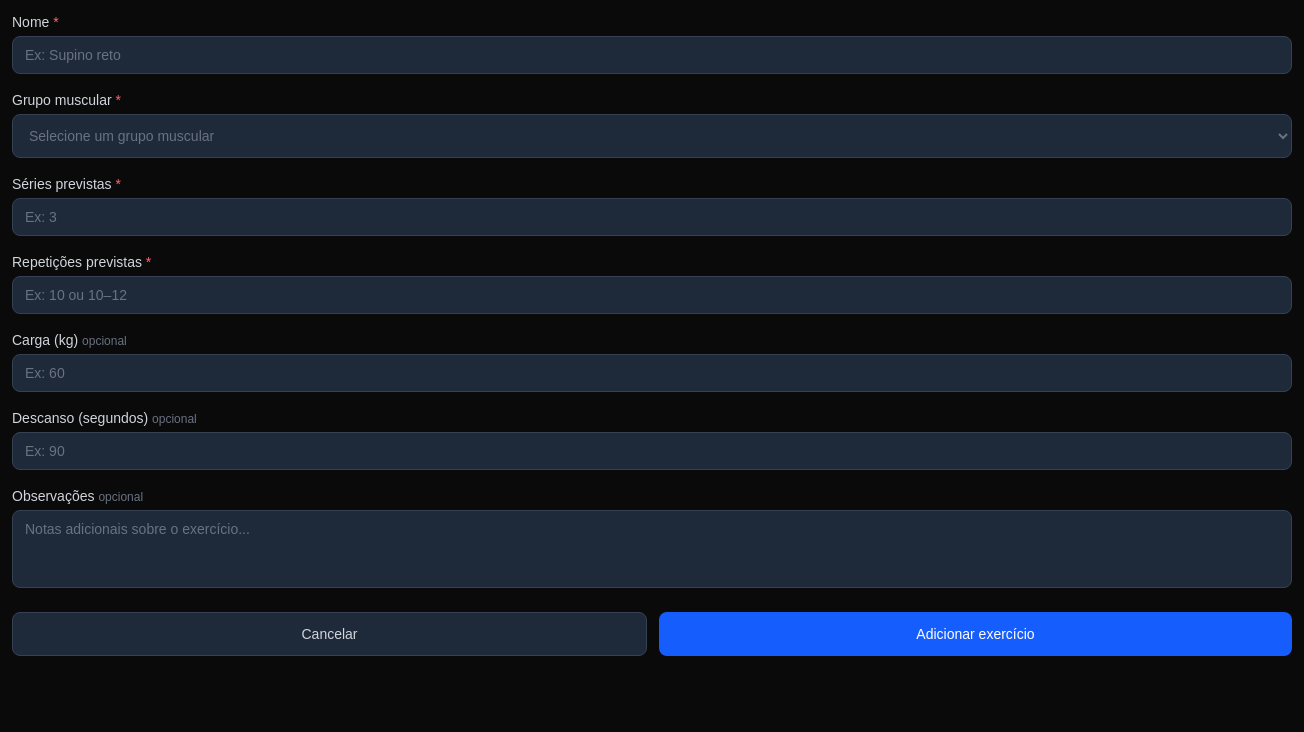
it: ExerciseForm › shows inline error for muscleGroup field when validator returns muscleGroup error
Click the button "Adicionar exercício" at (976, 634), box [659, 612, 1292, 656]
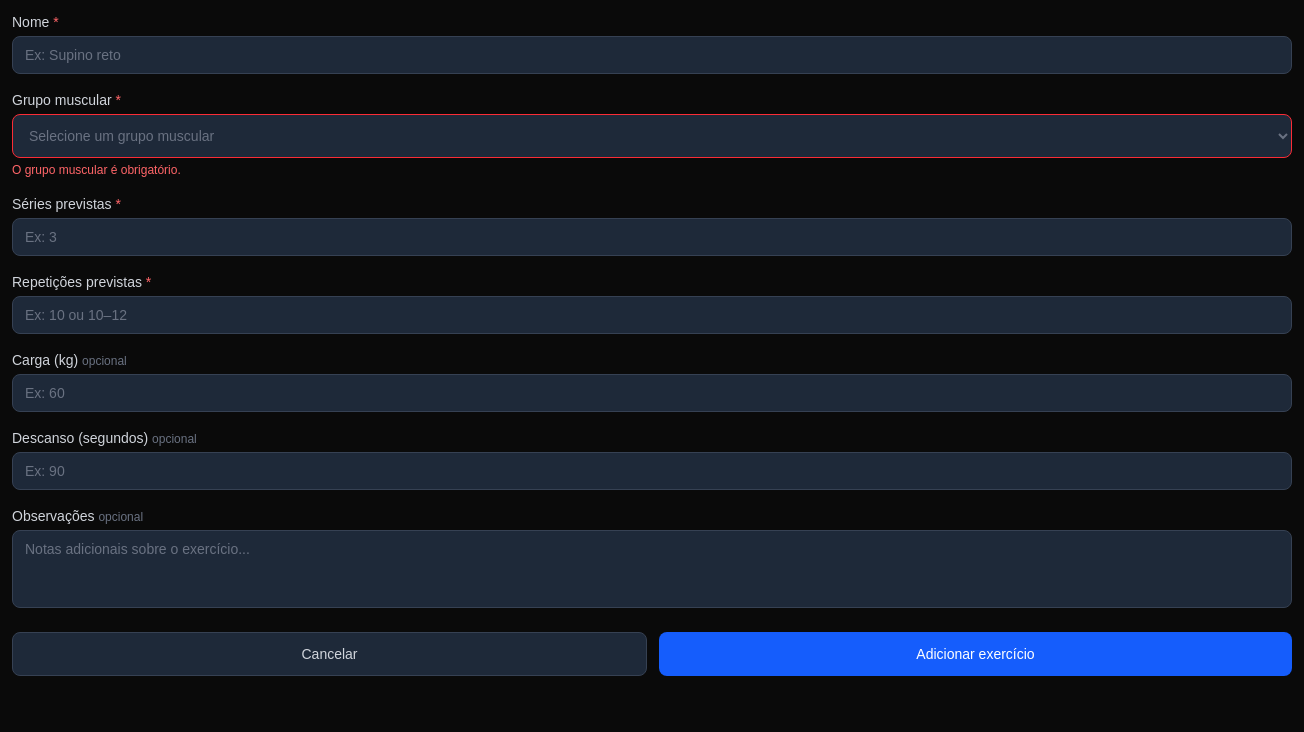
Expected: the text "O grupo muscular é obrigatório." is shown, [12, 163, 181, 177]
